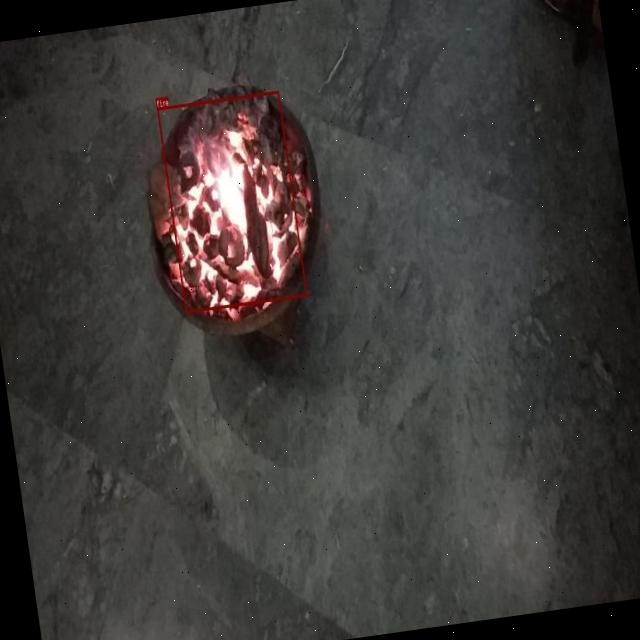fire: (156, 90, 308, 312)
